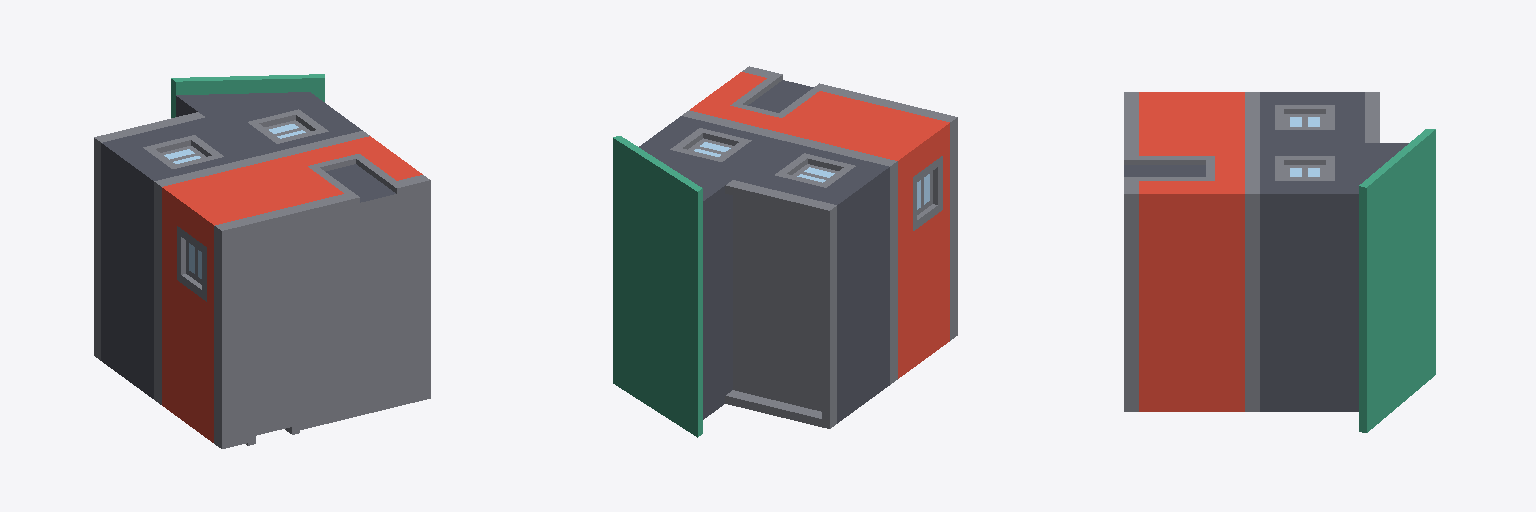
The model's file is house_type21.obj.
3 views of the same model, side by side, from view 1: azimuth 30°, elevation 25°; view 2: azimuth 150°, elevation 25°; view 3: azimuth 270°, elevation 25° (orthographic).
Visible parts, largest first — view 1: house_type21; view 2: house_type21; view 3: house_type21.
Boxes of the visible parts, x1=… form: house_type21: x1=94, y1=74, x2=430, y2=448; house_type21: x1=613, y1=66, x2=957, y2=437; house_type21: x1=1124, y1=92, x2=1435, y2=432.
Bounding box in the file's own units: 0.8581 × 0.9 × 1.03.